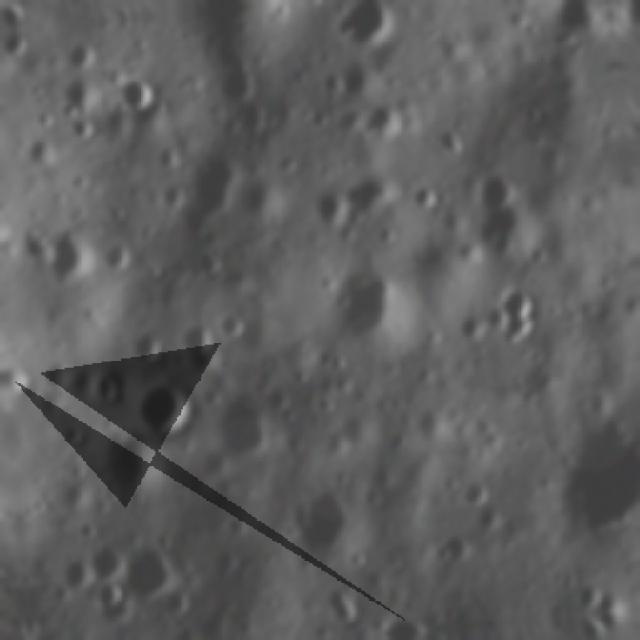crater: (566, 424, 640, 528), (331, 255, 406, 350), (291, 483, 352, 557), (216, 393, 278, 465), (186, 157, 252, 220), (38, 225, 102, 284), (135, 380, 193, 442), (124, 537, 181, 600), (108, 436, 172, 492), (334, 0, 406, 45), (503, 281, 545, 342), (470, 165, 524, 210), (550, 0, 604, 43), (365, 609, 446, 637), (176, 326, 219, 372), (53, 552, 95, 596), (310, 184, 356, 224), (214, 61, 261, 98), (365, 100, 406, 142), (92, 578, 131, 620), (48, 353, 84, 398), (119, 74, 158, 114), (103, 238, 142, 278), (328, 577, 359, 623), (90, 373, 125, 413), (24, 130, 59, 168), (88, 542, 121, 582), (409, 184, 449, 216), (2, 359, 32, 401), (194, 248, 232, 281), (61, 75, 93, 114), (232, 103, 268, 137), (215, 311, 248, 346), (208, 546, 240, 582), (61, 114, 99, 144), (434, 125, 468, 156), (153, 142, 184, 175), (135, 331, 162, 367), (428, 540, 464, 566), (469, 506, 503, 532), (454, 312, 484, 341), (459, 478, 492, 504), (72, 516, 102, 544), (575, 580, 602, 611), (28, 603, 49, 640), (159, 186, 186, 212), (57, 424, 86, 448), (0, 33, 28, 56), (485, 302, 509, 328), (484, 0, 545, 9), (440, 473, 466, 492), (219, 475, 236, 499), (446, 0, 483, 8), (330, 631, 353, 640)
